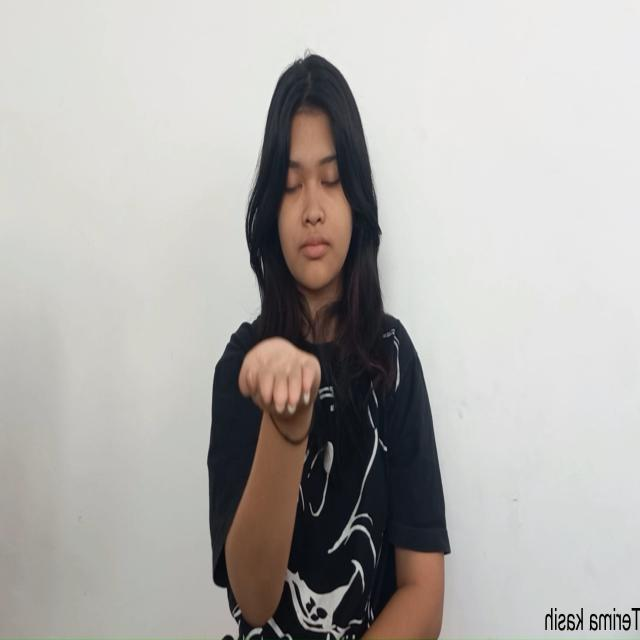Terima kasih -BISINDO-: (236, 334, 324, 442)
